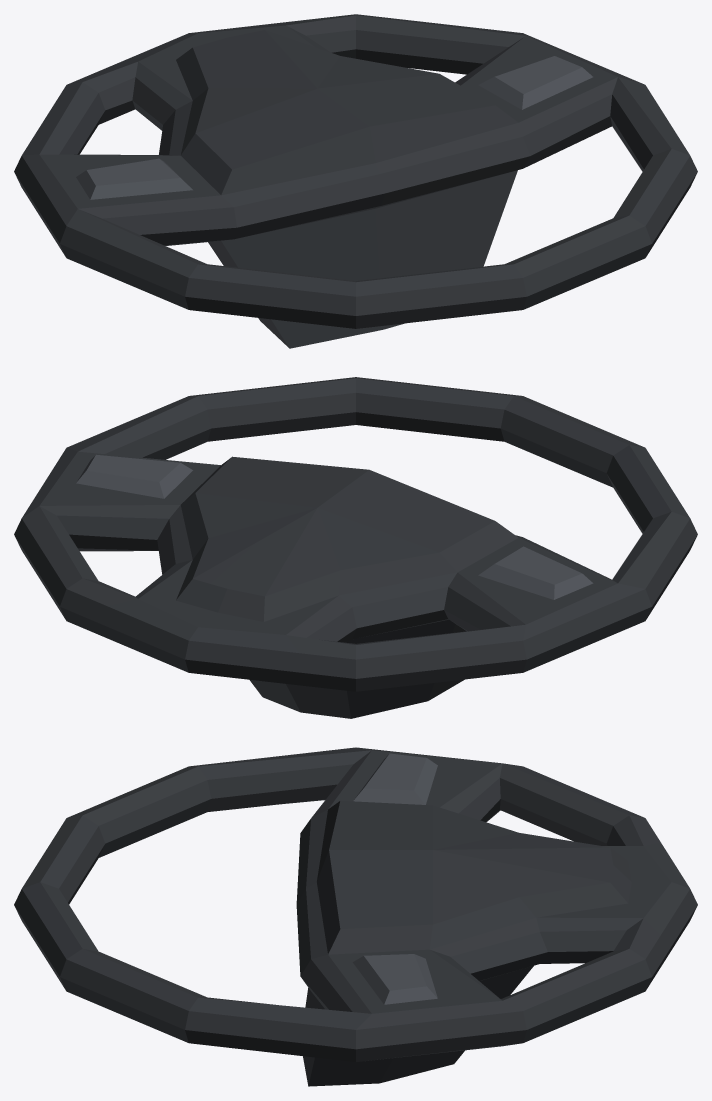
The model's file is SM_Veh_Steering_Wheel_01.fbx.
3 renders of one model, top to bottom at view 1: azimuth 30°, elevation 25°; view 2: azimuth 150°, elevation 25°; view 3: azimuth 270°, elevation 25°, orthographic.
Parts seen in each view (by area): view 1: SM_Veh_Steering_Wheel_01; view 2: SM_Veh_Steering_Wheel_01; view 3: SM_Veh_Steering_Wheel_01.
Part boxes in pixels (x1,y1,x2,y2): SM_Veh_Steering_Wheel_01: (14,14,697,348); SM_Veh_Steering_Wheel_01: (14,377,697,718); SM_Veh_Steering_Wheel_01: (14,747,697,1086).
Size of the model in its own units: 47.78 by 14.84 by 47.78.
